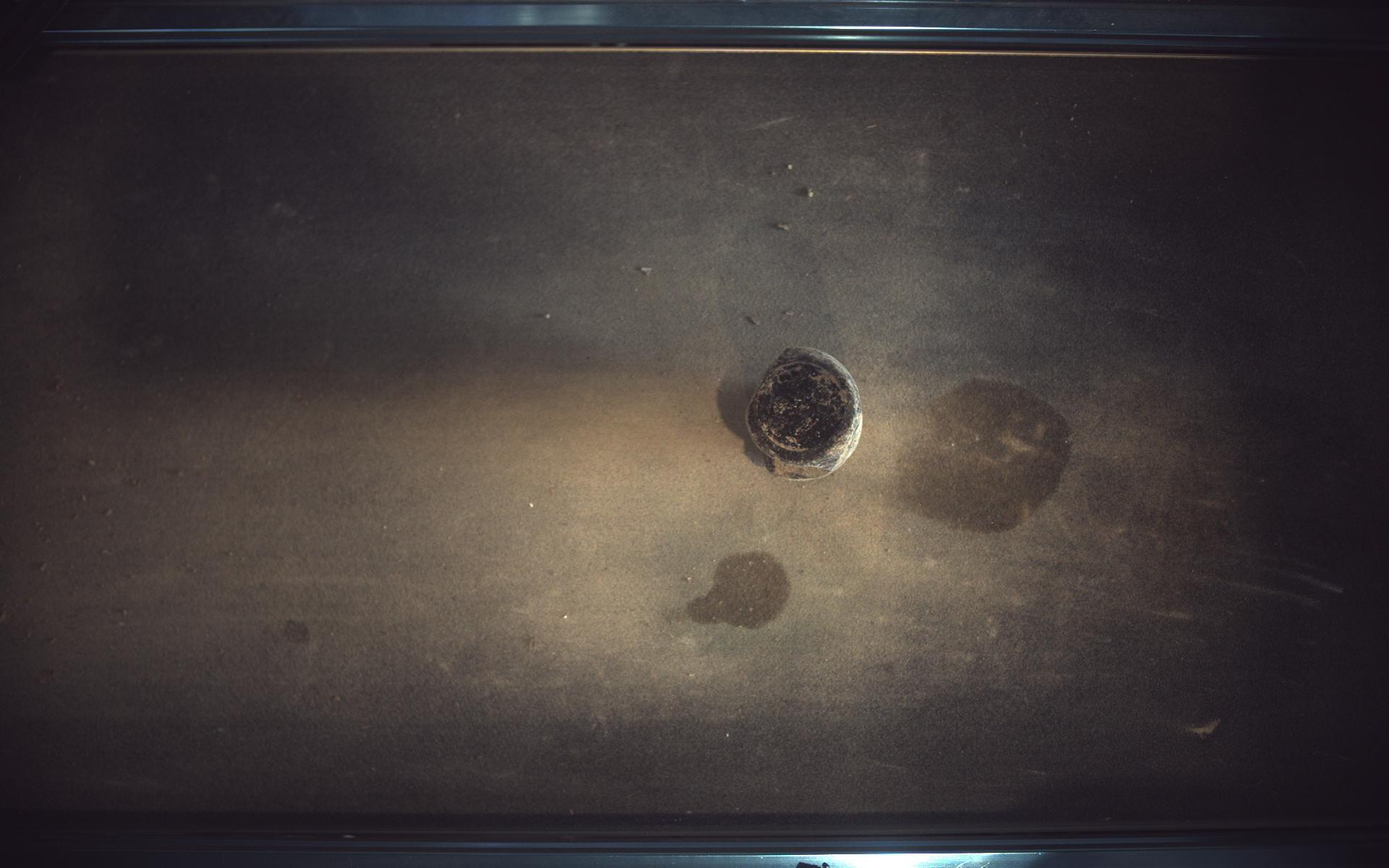general_w: (747, 347, 865, 480)
